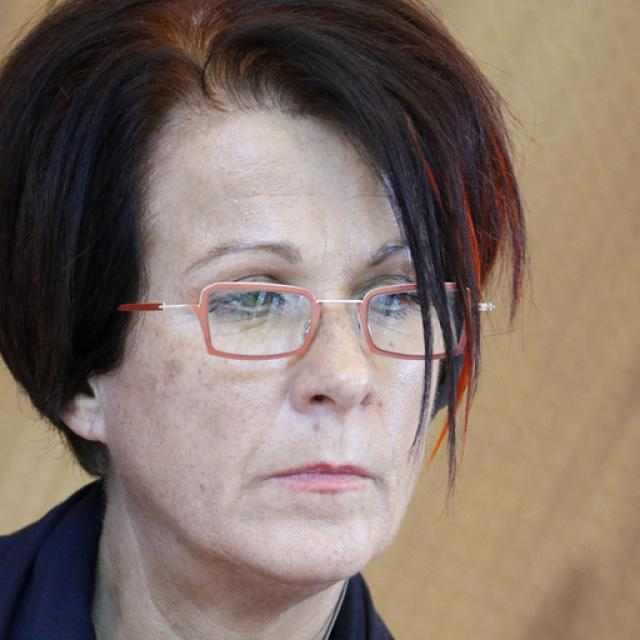sad: (108, 79, 449, 582)
